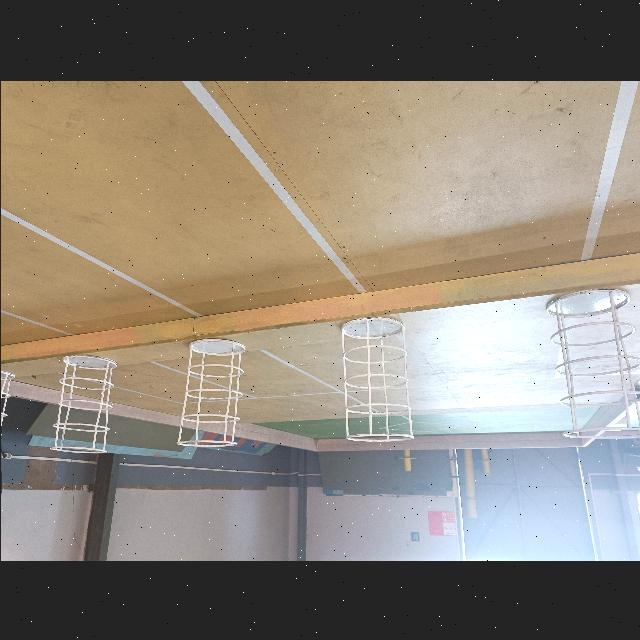S: (544, 286, 640, 440), (339, 315, 415, 442), (175, 337, 247, 447), (48, 354, 117, 453), (0, 367, 15, 439)
